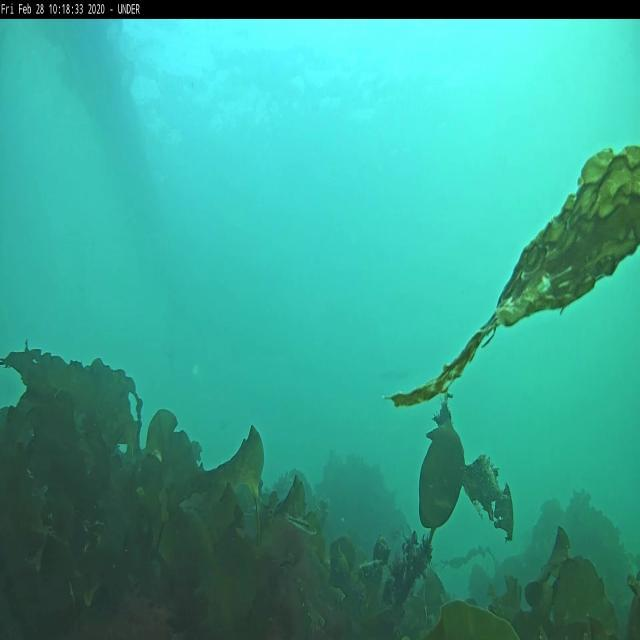fish: (285, 514, 318, 536)
